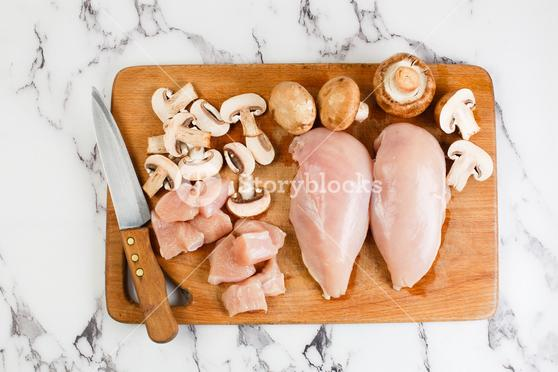champignon: (375, 49, 439, 125), (321, 73, 375, 137), (274, 82, 320, 140)
chicken_fillet: (293, 128, 371, 309), (372, 119, 450, 296)
